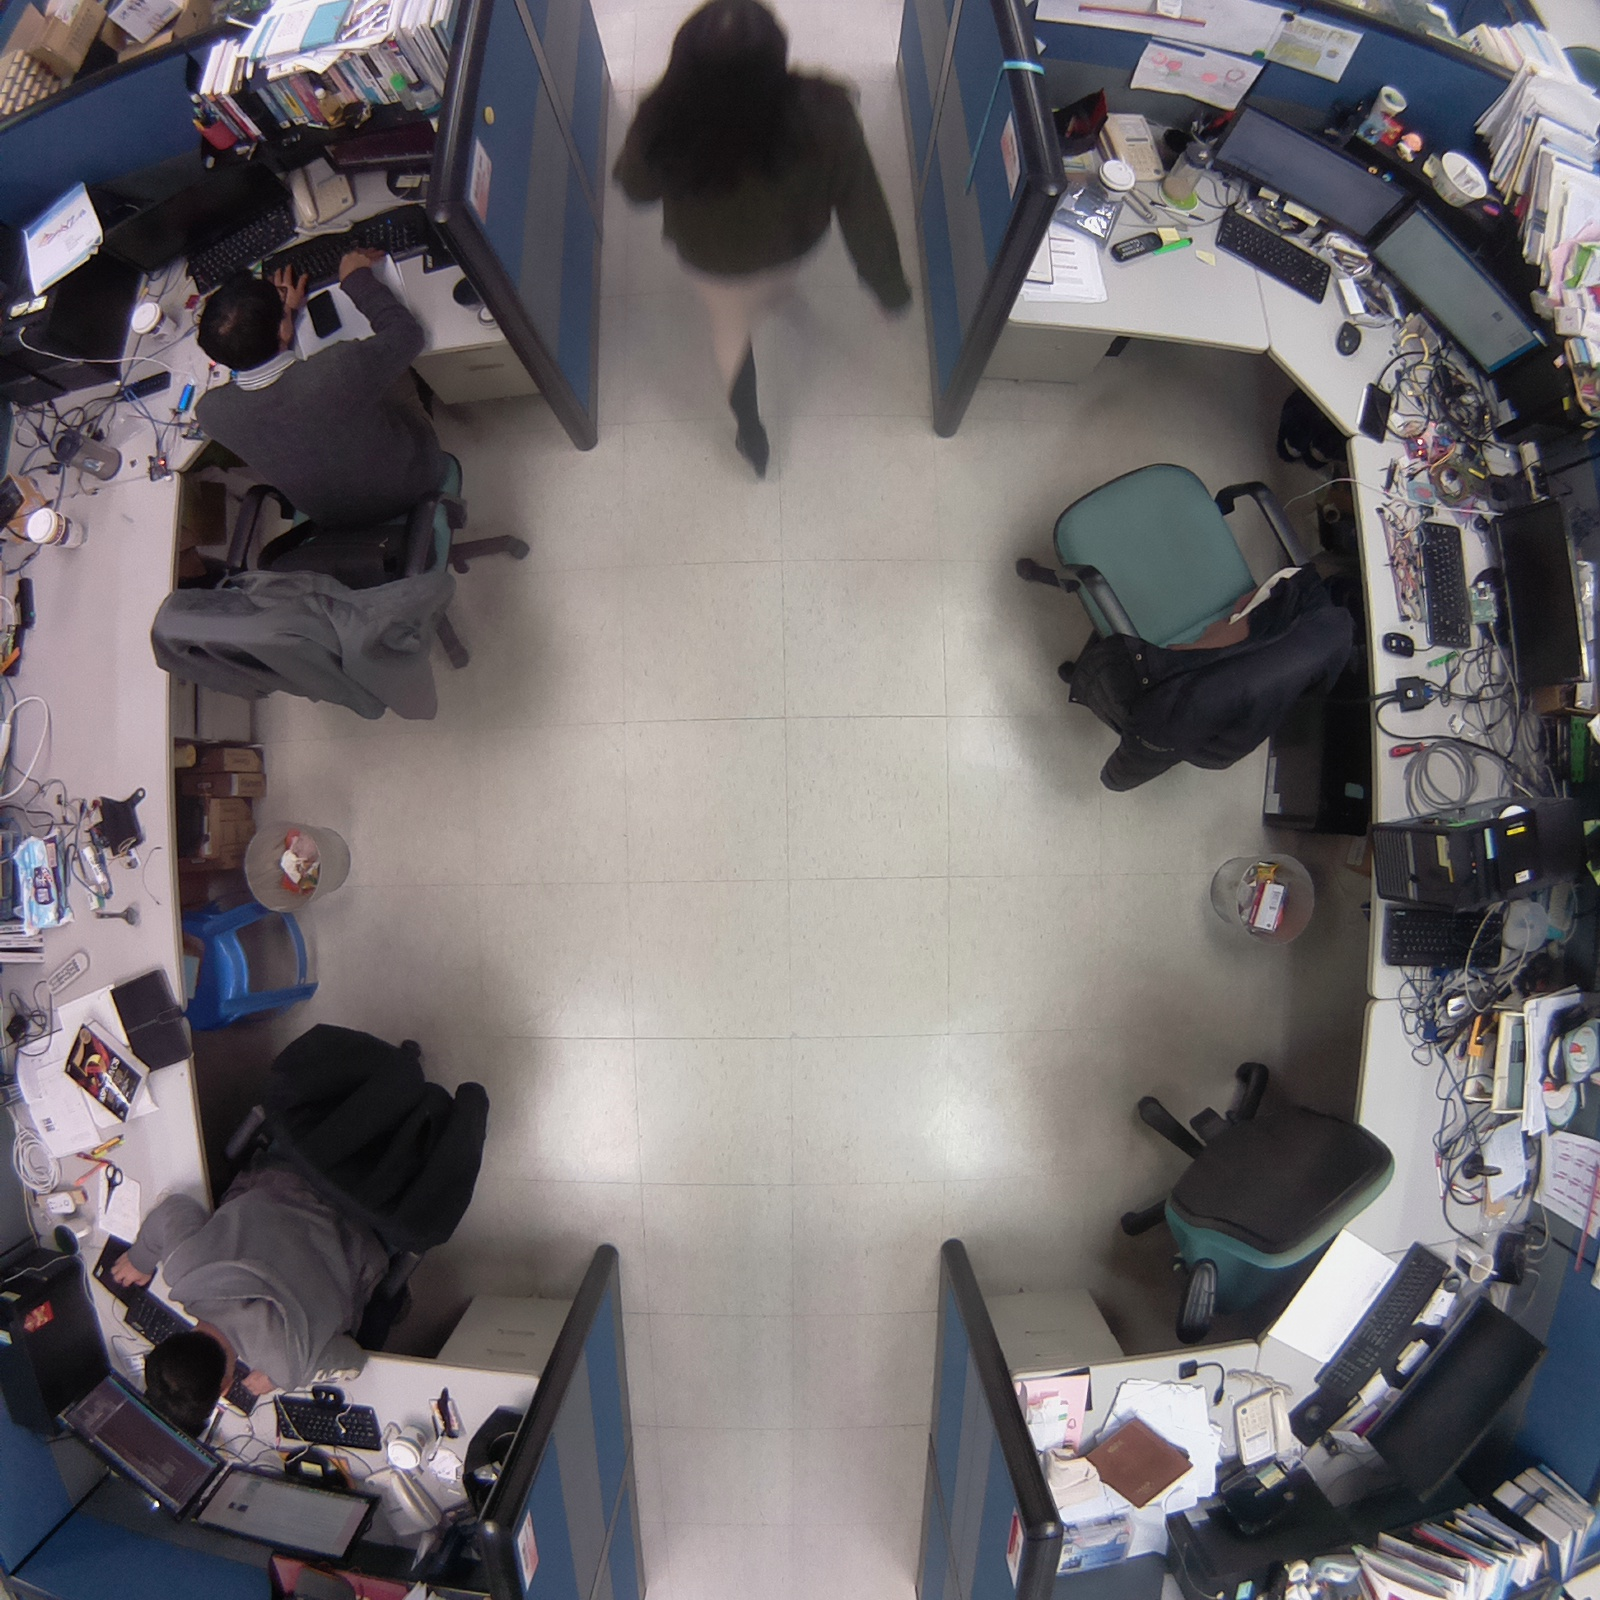chair: (996, 437, 1368, 824), (1094, 1022, 1404, 1360)
head: (645, 1, 819, 129), (136, 1323, 236, 1440), (193, 270, 291, 370)
sitting: (137, 257, 553, 742), (95, 993, 506, 1441)
walking: (596, 1, 924, 499)
